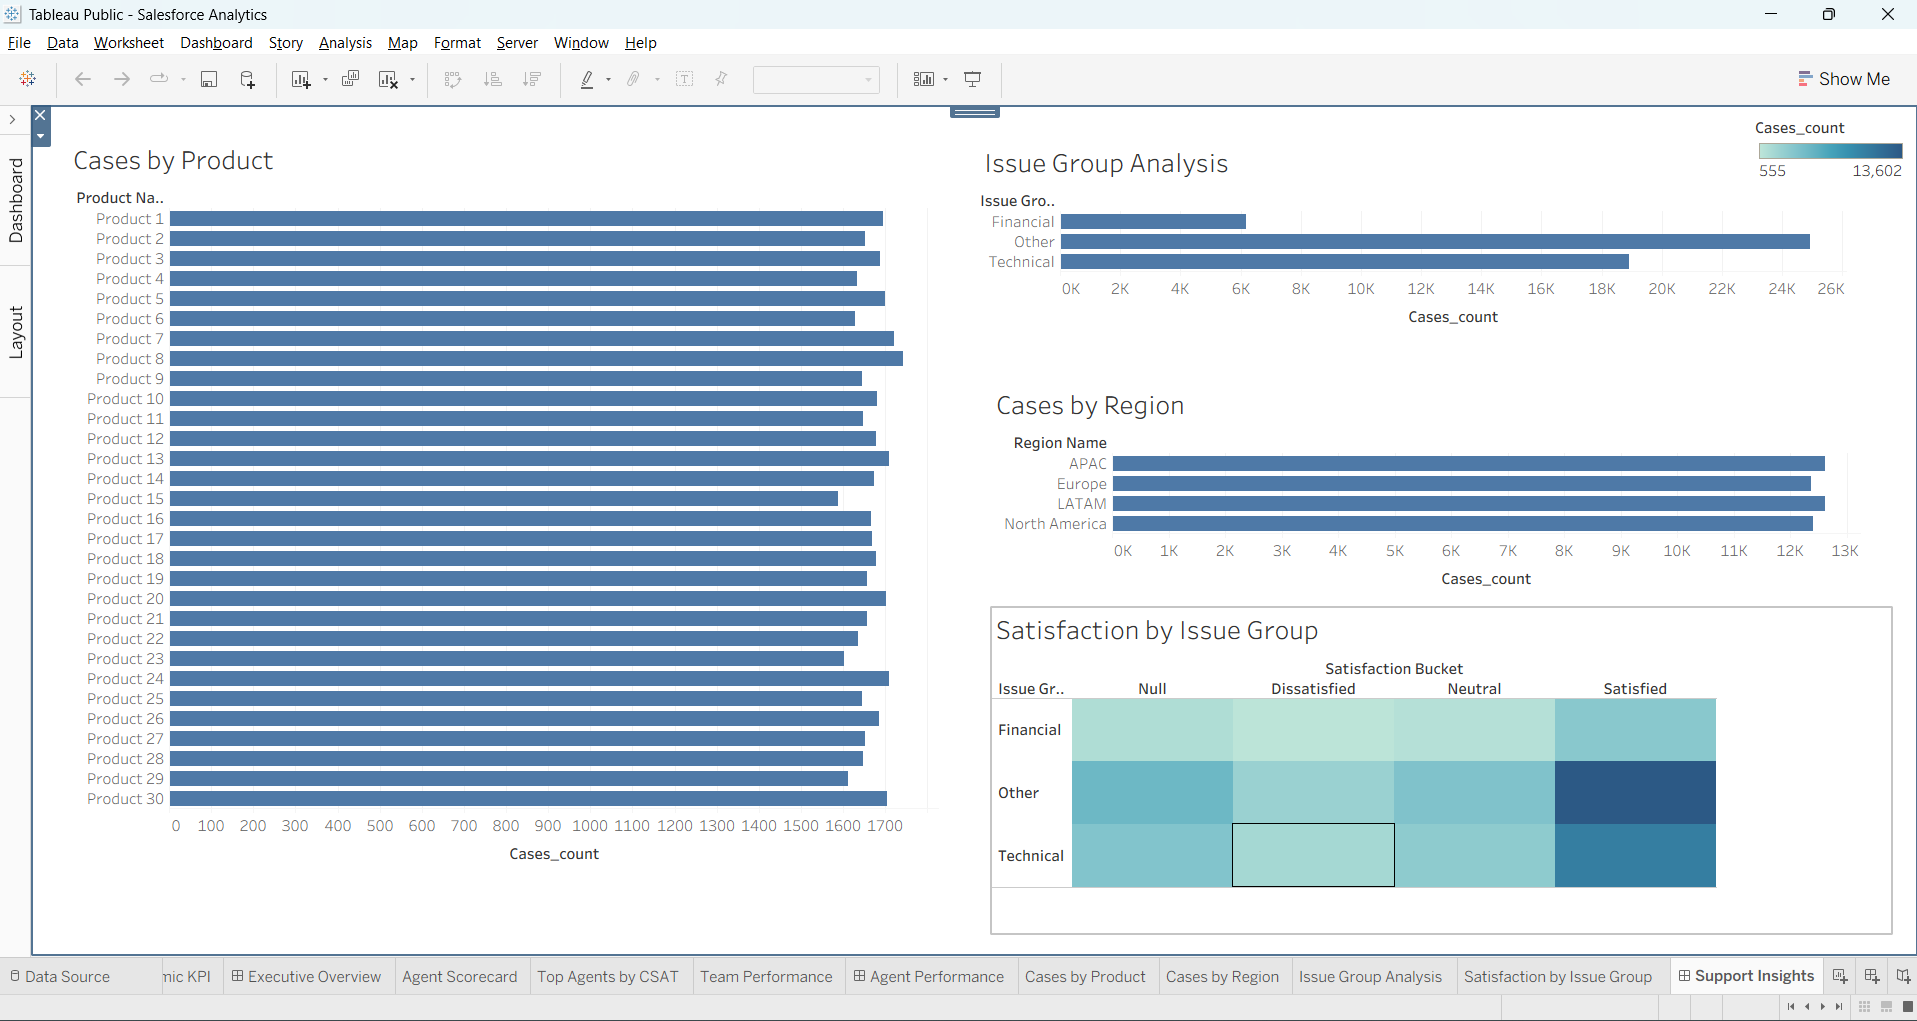

This screenshot's page, from the dashboard's own definition file:
{"tool":"tableau","page":{"name":"Support Insights","canvas":[1000,1000],"units":"permille","ordinal":2},"visuals":[{"type":"legend","title":"Satisfaction by Issue Group","param":"[federated.1tldwqo1ejh8lh17t934y14qqu74].[usr:Calculation_1482707449446400:qk]","box":[898.6,9.4,96.6,85.8]},{"type":"worksheet","title":"Cases by Product","mark":"Automatic","rows":["PRODUCT_NAME"],"cols":["Calculation_1482707449446400"],"box":[19.9,38.8,461.1,921.3]},{"type":"worksheet","title":"Issue Group Analysis","mark":"Automatic","rows":["ISSUE_GROUP"],"cols":["Calculation_1482707449446400"],"box":[502.7,42.3,459.3,230.3]},{"type":"worksheet","title":"Cases by Region","mark":"Automatic","rows":["REGION_NAME"],"cols":["Calculation_1482707449446400"],"box":[508.8,326.7,460.5,259.7]},{"type":"worksheet","title":"Satisfaction by Issue Group","mark":"Automatic","rows":["ISSUE_GROUP"],"cols":["SATISFACTION_BUCKET"],"box":[508.8,591.1,476.2,381.9]}]}

Visuals, with their boxes on the dashboard's canvas, which has no fixed pixel size, in thousandths of its width and height (x1, y1, x2, y2). These are canvas units, not pixel positions in the 1917x1021 screenshot, which may show the page scaled, cropped or inside an application window:
"Satisfaction by Issue Group" legend: {"x1": 899, "y1": 9, "x2": 995, "y2": 95}
"Cases by Product" worksheet: {"x1": 20, "y1": 39, "x2": 481, "y2": 960}
"Issue Group Analysis" worksheet: {"x1": 503, "y1": 42, "x2": 962, "y2": 273}
"Cases by Region" worksheet: {"x1": 509, "y1": 327, "x2": 969, "y2": 586}
"Satisfaction by Issue Group" worksheet: {"x1": 509, "y1": 591, "x2": 985, "y2": 973}
